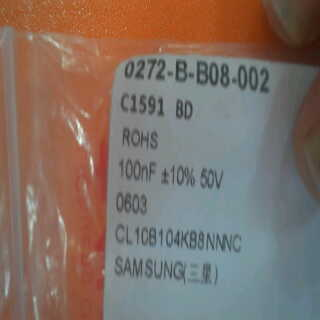100nF: (112, 155, 159, 186)
